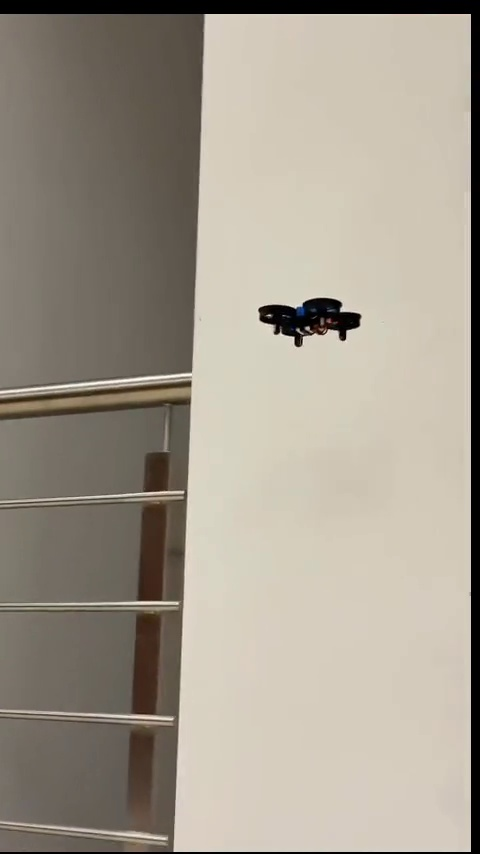drone: (259, 297, 363, 349)
